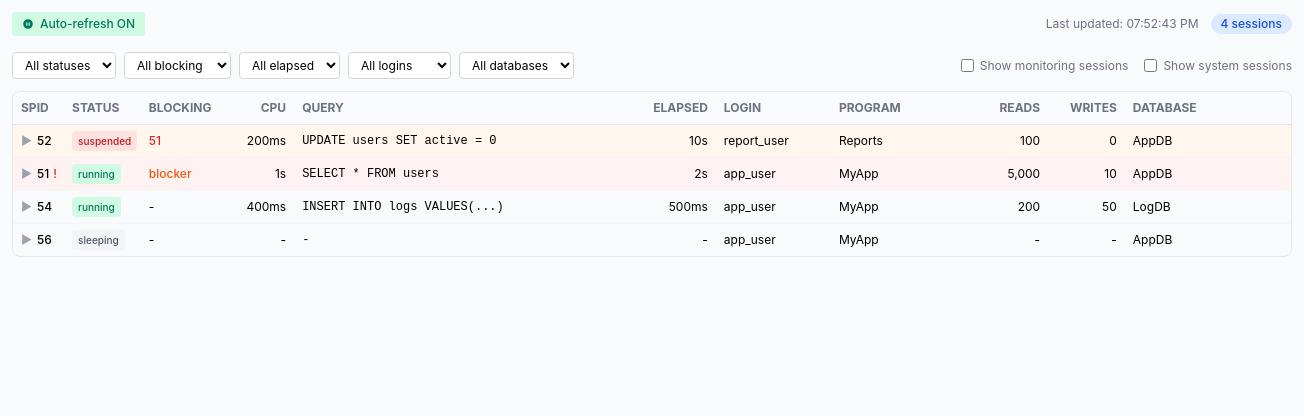
Scenario: CurrentActivity › expands row to show full details
The image size is (1304, 416).
Click the row with test id "session-row-52" at (652, 141), box 13,124 -> 1291,158
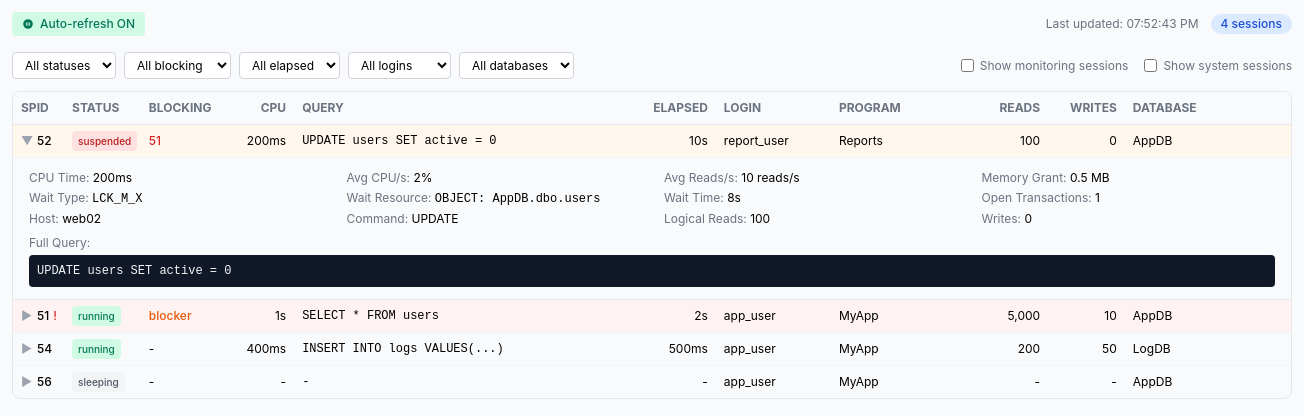
expect the cell with test id "session-detail-52" is shown: met, box 13,158 -> 1291,300
expect the cell with test id "session-detail-52" shows "LCK_M_X": met, box 92,192 -> 142,206
expect the cell with test id "session-detail-52" shows "OBJECT: AppDB.dbo.users": met, box 435,192 -> 600,206
